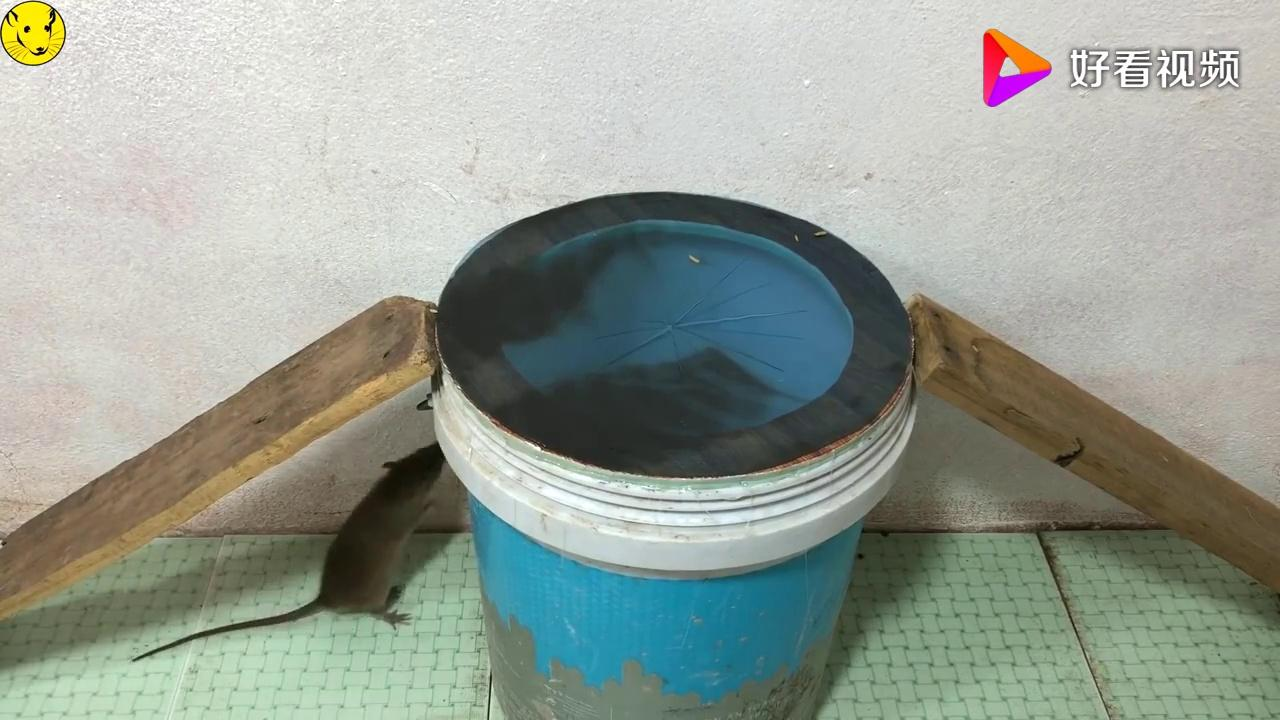rat: (240, 424, 458, 643)
